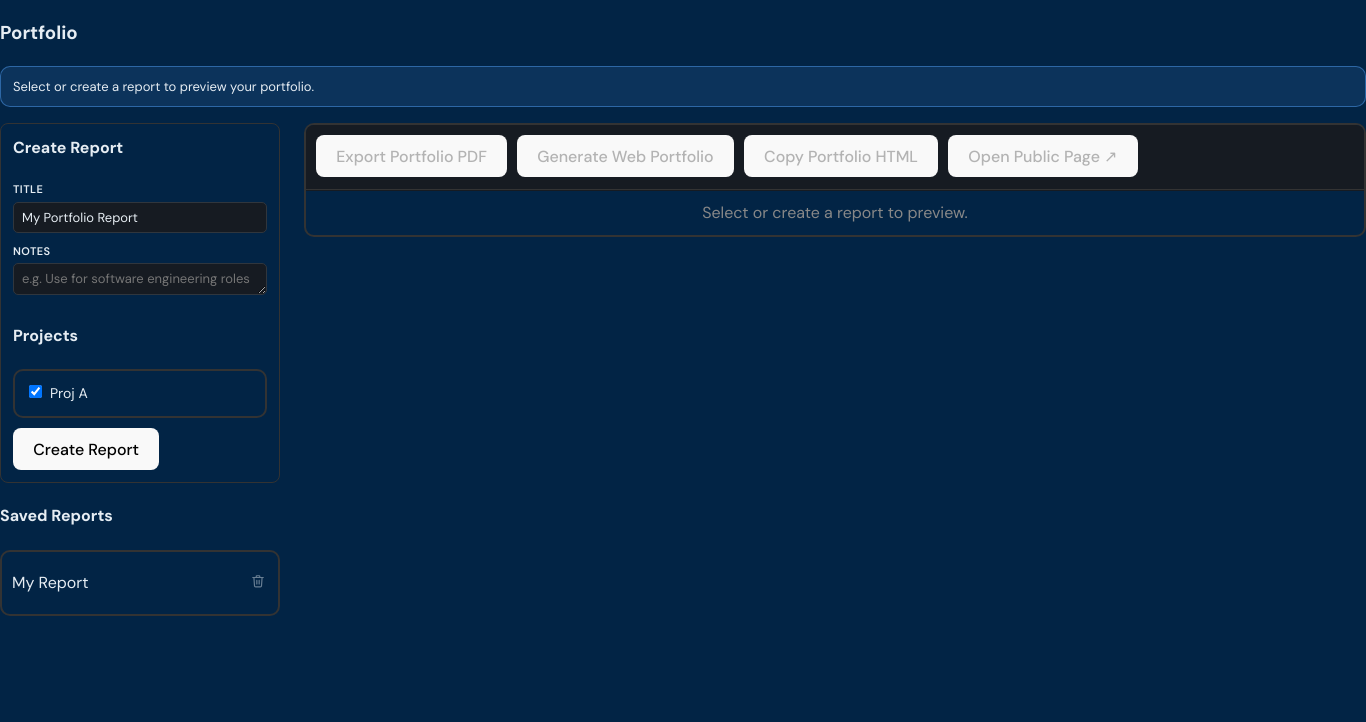
PortfolioPage web portfolio › Open Public Page button is disabled when portfolio is private
The image size is (1366, 722).
expect the heading "Saved Reports" is shown: met, box [0,506,113,526]
Click the button "My Report". click: (130, 583)
box: [12,568,248,598]
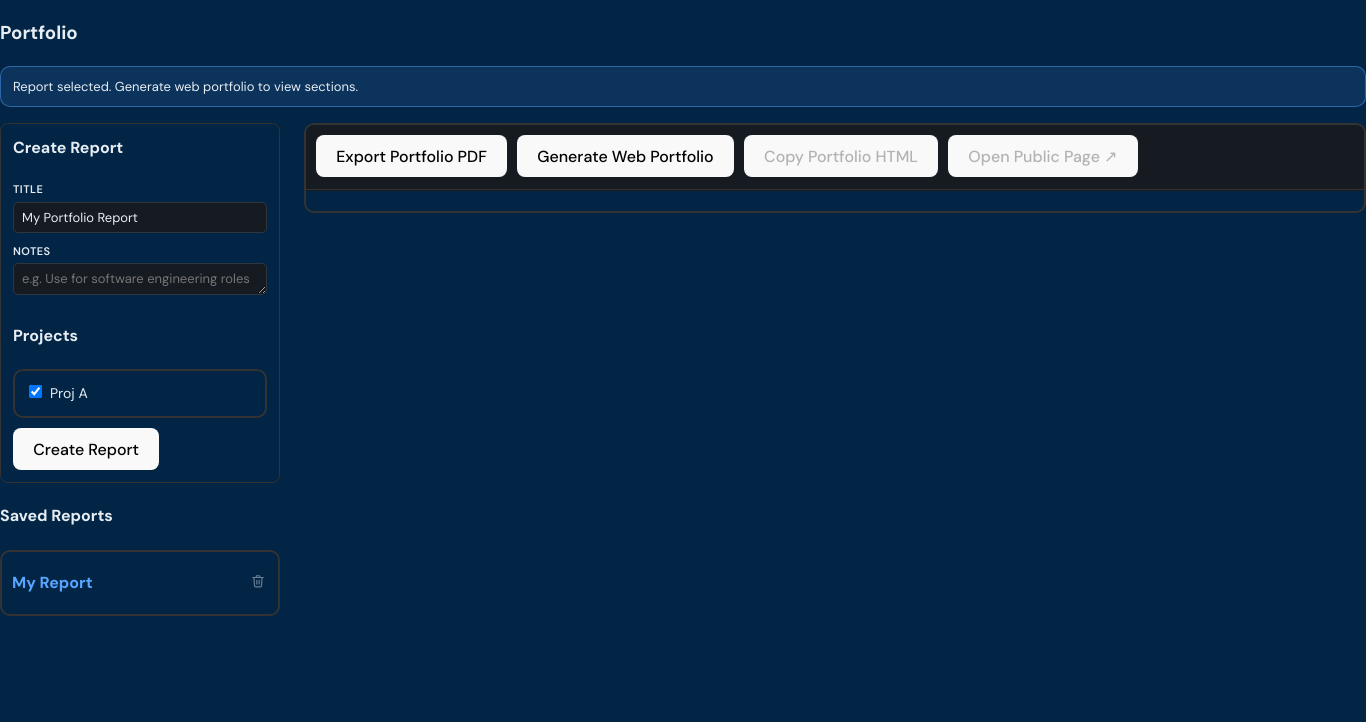
Click the button "Generate Web Portfolio". click: (625, 156)
box: [517,135,734,177]
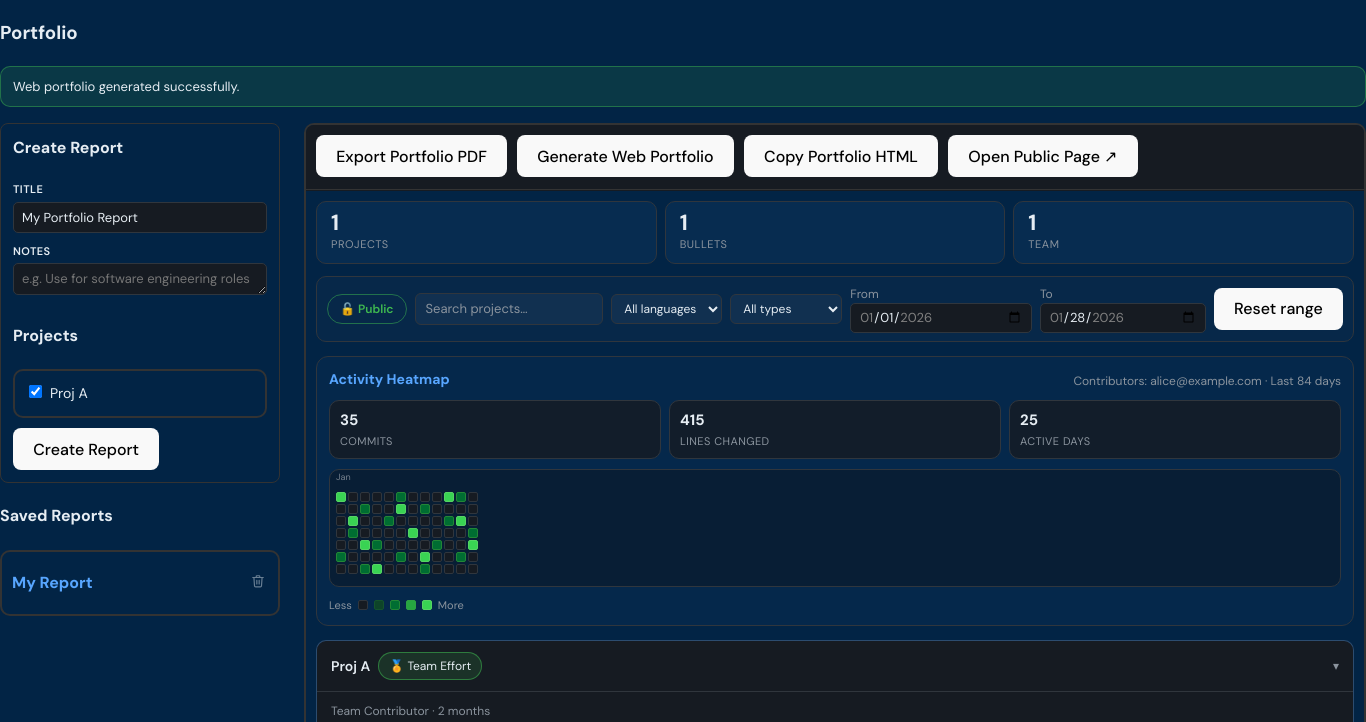
Click the button with aria-label "toggle portfolio mode". click: (367, 309)
box: [327,294,406,324]
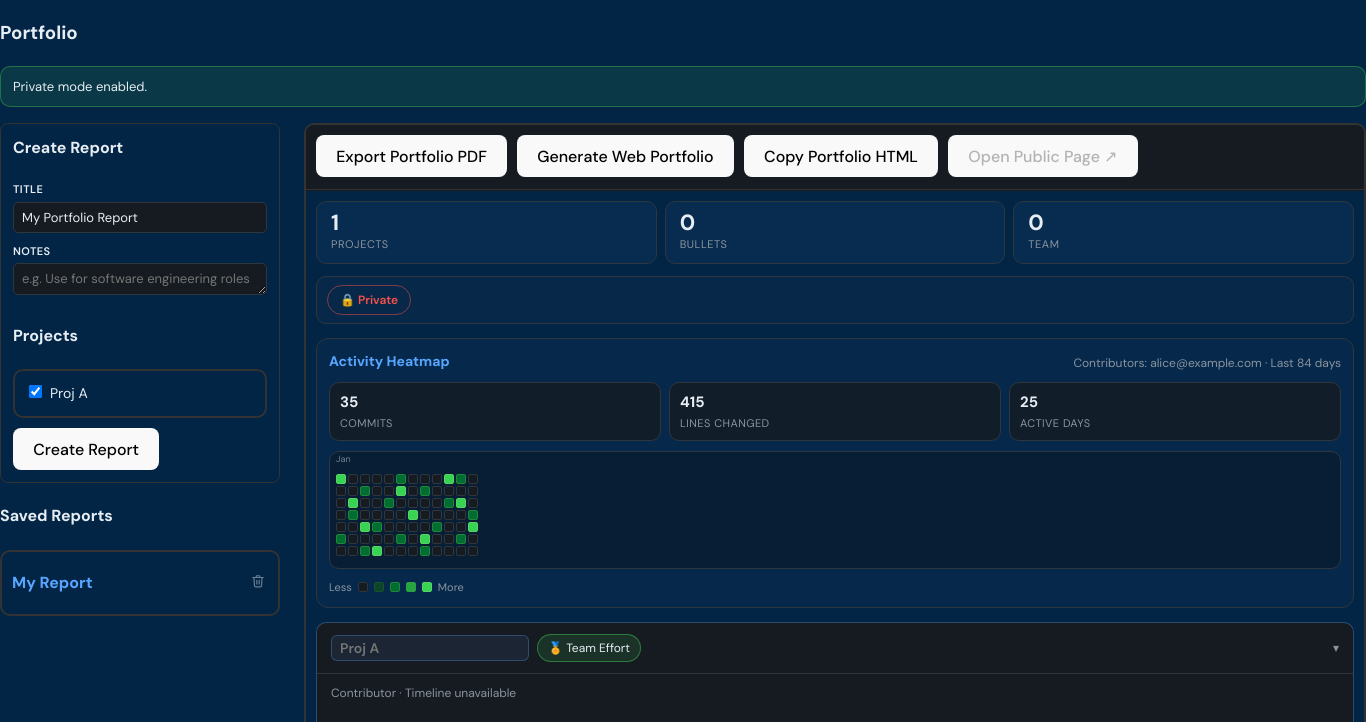
expect the button with test id "portfolio-mode-badge" shows "Private": met, box [327,285,411,315]
expect the button "Open Public Page ↗" is disabled: met, box [948,135,1138,177]
